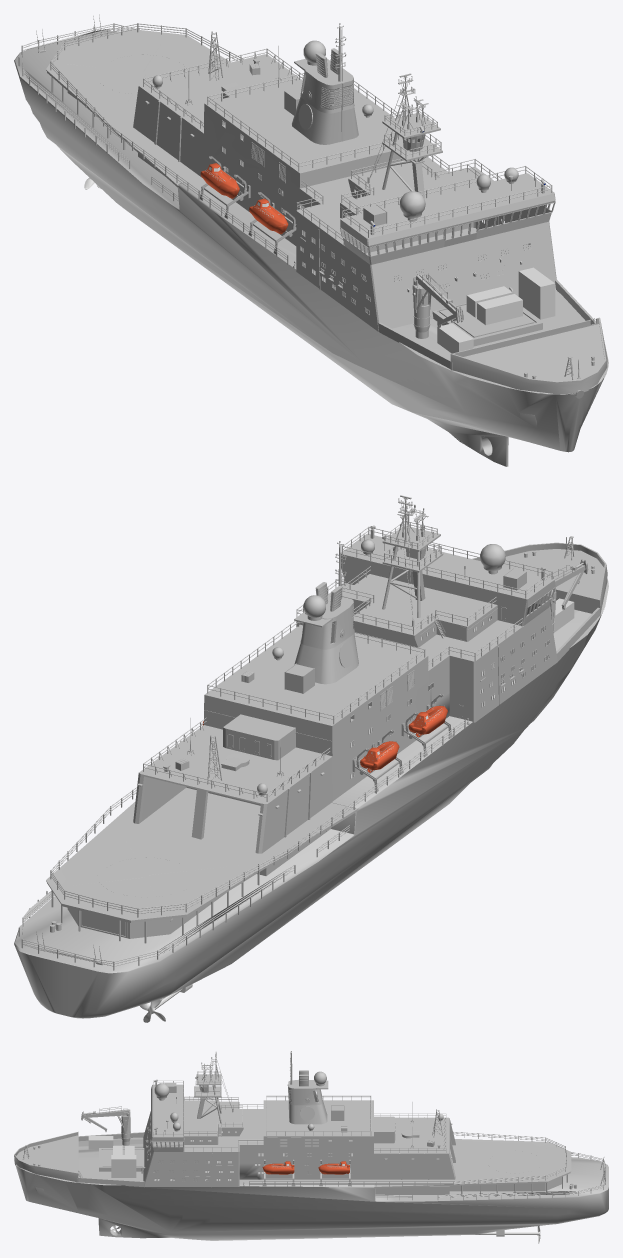
The model's file is Icebreaker.fbx.
3 renders of one model, top to bottom at view 1: azimuth 30°, elevation 25°; view 2: azimuth 150°, elevation 25°; view 3: azimuth 270°, elevation 25°, orthographic. The views are drawn at different scales.
Visible parts, largest first — view 1: Cube.006, Cube.013, Cube.014, Cube.016, Cube.005, Cube.007, Cube.012; view 2: Cube.006, Cube.007, Cube.005; view 3: Cube.006, Cube.014, Cube.003, Cube.001, Cube.016.
Boxes of the visible parts, bbox=[...] form: Cube.006: bbox=[14, 14, 608, 466]; Cube.013: bbox=[477, 294, 522, 325]; Cube.014: bbox=[518, 267, 555, 303]; Cube.016: bbox=[437, 323, 473, 353]; Cube.005: bbox=[249, 198, 288, 234]; Cube.007: bbox=[200, 163, 239, 198]; Cube.012: bbox=[518, 288, 555, 319]; Cube.006: bbox=[14, 495, 608, 1018]; Cube.007: bbox=[360, 741, 399, 772]; Cube.005: bbox=[408, 705, 447, 737]; Cube.006: bbox=[14, 1051, 608, 1240]; Cube.014: bbox=[111, 1155, 136, 1168]; Cube.003: bbox=[262, 1161, 294, 1174]; Cube.001: bbox=[318, 1161, 349, 1174]; Cube.016: bbox=[88, 1136, 113, 1149].
Bounding box in the file's own units: 2940 × 4787 × 14010.
